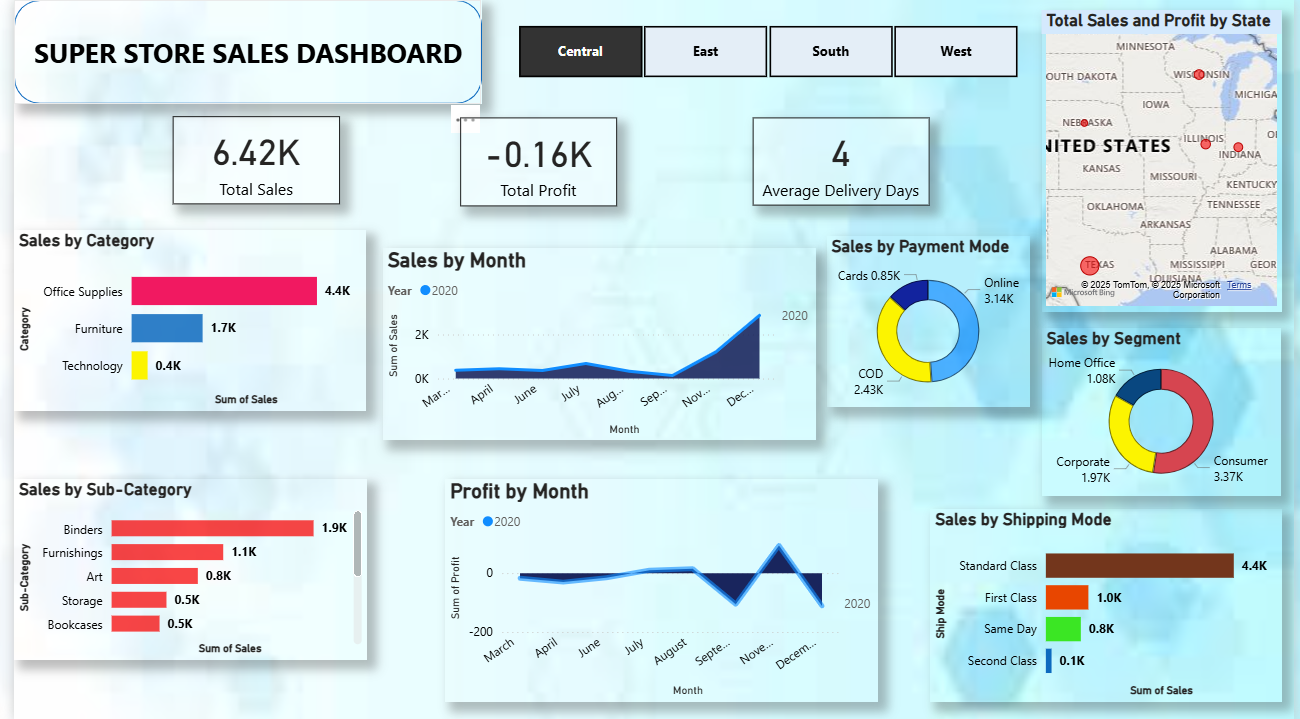

What the dashboard file says about the page in this screenshot:
{"tool":"powerbi","page":{"name":"Dashboard","canvas":[1280,720],"ordinal":0},"visuals":[{"type":"barChart","title":" Sales by Category","fields":{"Category":["Superstore.Category"],"Y":["Sum(Superstore.Sales)"]},"box":[0,230.4,352.3,181],"z":0},{"type":"barChart","title":" Sales by Shipping Mode","fields":{"Category":["Superstore.Ship Mode"],"Y":["Sum(Superstore.Sales)"]},"box":[915.7,509.1,352.3,193],"z":1000},{"type":"stackedAreaChart","title":" Sales by Month ","fields":{"Y":["Sum(Superstore.Sales)"],"Category":["Superstore.Order Date.Variation.Date Hierarchy.Month"],"Series":["Superstore.Order Date.Variation.Date Hierarchy.Year"]},"box":[369.2,247.3,433.1,193],"z":2000},{"type":"stackedAreaChart","title":" Profit by Month ","fields":{"Category":["Superstore.Order Date.Variation.Date Hierarchy.Month"],"Series":["Superstore.Order Date.Variation.Date Hierarchy.Year"],"Y":["Sum(Superstore.Profit)"]},"box":[430.7,479,433.1,223.2],"z":3000},{"type":"donutChart","title":"Sales by Segment","fields":{"Y":["Sum(Superstore.Sales)"],"Category":["Superstore.Segment"]},"box":[1027.9,327.9,239.5,168.6],"z":4000},{"type":"donutChart","title":"Sales by Payment Mode","fields":{"Category":["Superstore.Payment Mode"],"Y":["Sum(Superstore.Sales)"]},"box":[812.8,236,203.5,170.9],"z":5000},{"type":"shape","box":[0,0,468.1,103.8],"z":6000},{"type":"map","title":"Total Sales and Profit by State","fields":{"Category":["Superstore.State"],"Size":["Sum(Superstore.Sales)"]},"box":[1027.9,9.7,240.1,301.6],"z":7000},{"type":"barChart","title":" Sales by Sub-Category","fields":{"Category":["Superstore.Sub-Category"],"Y":["Sum(Superstore.Sales)"]},"box":[0,479.3,352.9,180.5],"z":8000},{"type":"slicer","fields":{"Values":["Superstore.Region"]},"box":[479,19.3,548.9,65.1],"z":9000},{"type":"card","title":"cv ","fields":{"Values":["Sum(Superstore.Sales)"]},"box":[159.3,116.3,167.4,88.4],"z":10000},{"type":"card","title":"cv ","fields":{"Values":["Sum(Superstore.Profit)"]},"box":[446.4,118,157,89.1],"z":11000},{"type":"card","title":"cv ","fields":{"Values":["Avg(Superstore.Avg_ship_day)"]},"box":[738.4,117.4,176.7,88.4],"z":13000}]}

Visuals, with their boxes in screenshot pixels (x1, y1, x2, y2), scaled from the page's 1280x720 canvas onto the 1300x719 screenshot:
" Sales by Category" barChart: 0/230/358/411
" Sales by Shipping Mode" barChart: 930/508/1288/701
" Sales by Month " stackedAreaChart: 375/247/815/440
" Profit by Month " stackedAreaChart: 437/478/877/701
"Sales by Segment" donutChart: 1044/327/1287/496
"Sales by Payment Mode" donutChart: 826/236/1032/406
shape: 0/0/475/104
"Total Sales and Profit by State" map: 1044/10/1288/311
" Sales by Sub-Category" barChart: 0/479/358/659
slicer - Superstore.Region: 486/19/1044/84
"cv " card: 162/116/332/204
"cv " card: 453/118/613/207
"cv " card: 750/117/929/206
